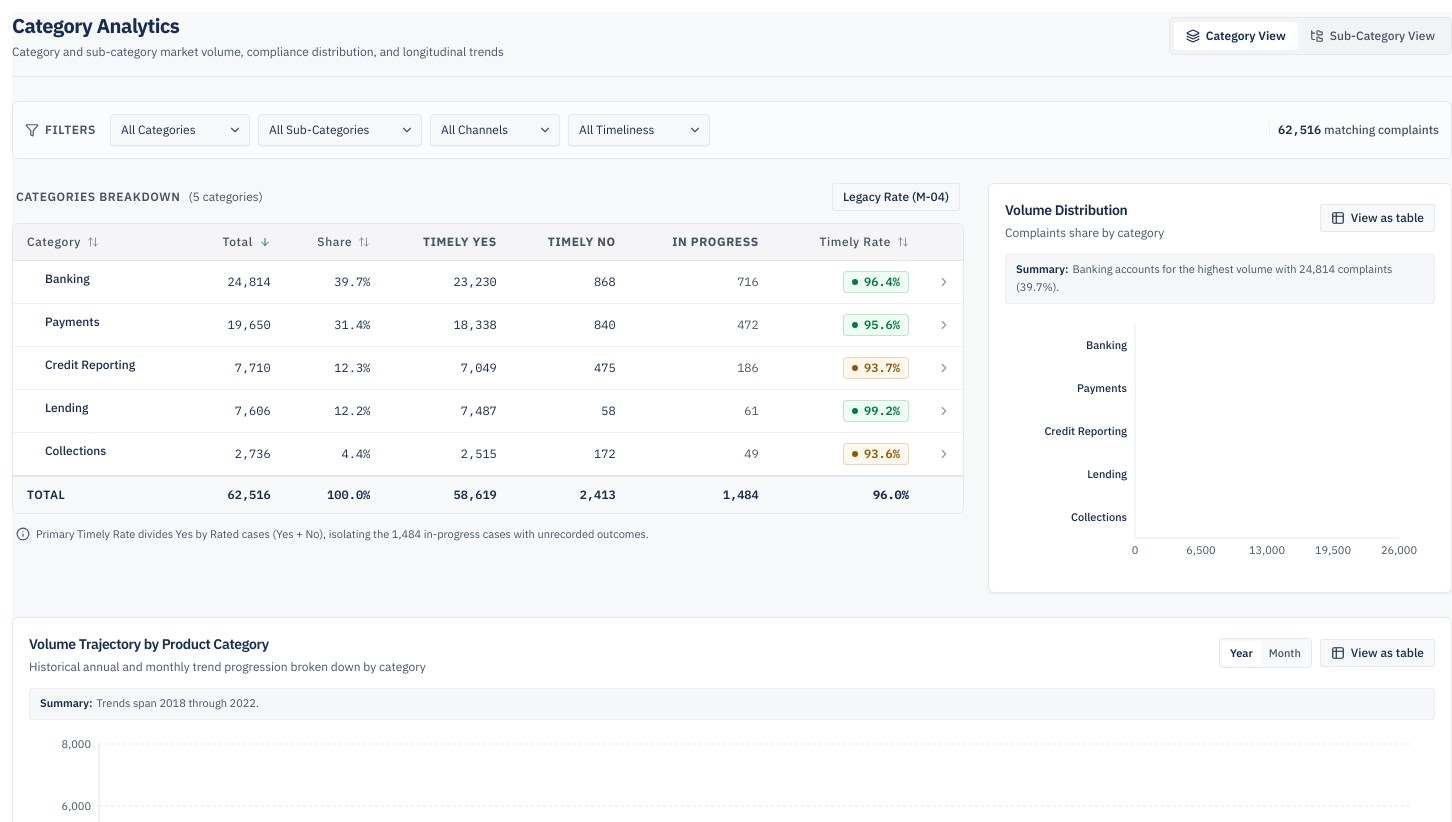
Test case: Phase 8: Category Analytics Page (/categories) › toggles between Category View and Sub-Category View
Check: the heading "Categories Breakdown" is shown, box [16,189,180,205]
Check: the text "(5 categories)" is shown, box [188,189,263,205]
Click the button "Sub-Category View" at (1372, 36), box [1298,22,1447,50]
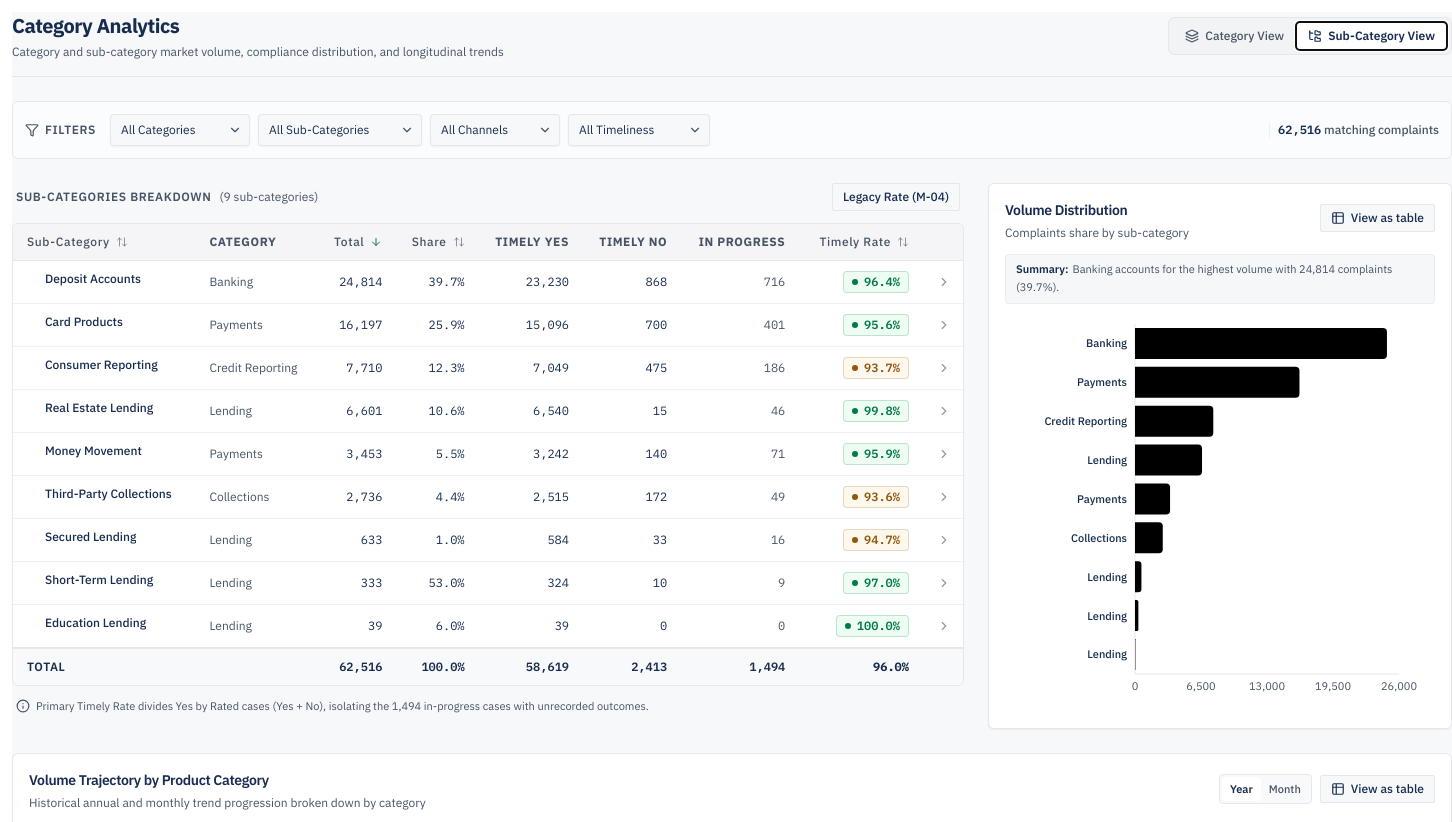
Check: the heading "Sub-Categories Breakdown" is shown, box [16,189,212,205]
Check: the text "(9 sub-categories)" is shown, box [220,189,318,205]
